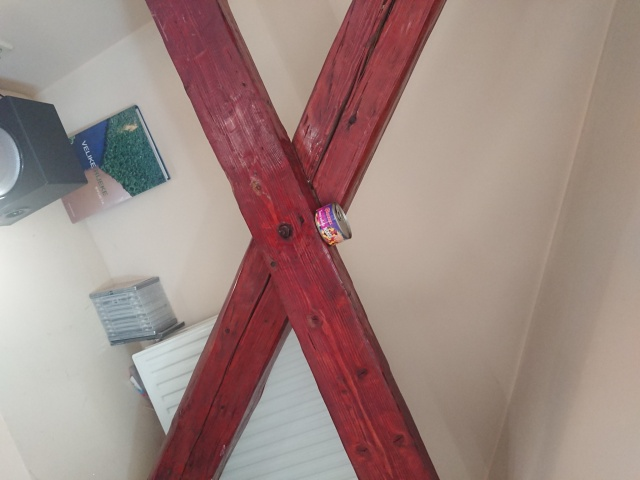Giana Tuna Salad Mexico 185g: (312, 198, 354, 248)
